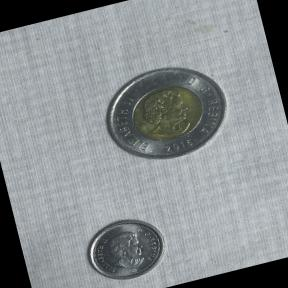coin: (89, 51, 242, 180), (74, 204, 176, 288)
